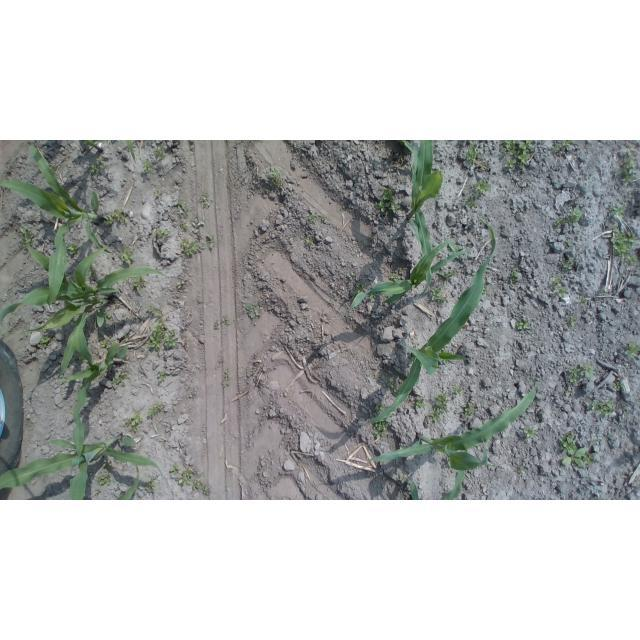Maize: (371, 221, 497, 421), (0, 229, 166, 377), (0, 145, 112, 308), (368, 379, 538, 469), (58, 312, 128, 468), (1, 434, 164, 500), (350, 243, 472, 310), (401, 141, 443, 296), (411, 468, 465, 500), (84, 140, 139, 162), (116, 464, 141, 500)
Weeds: (559, 433, 595, 471), (145, 320, 180, 357), (499, 140, 535, 168), (610, 225, 640, 257), (376, 187, 401, 214), (429, 393, 449, 423), (569, 362, 594, 385), (621, 147, 635, 185), (587, 401, 616, 416), (464, 140, 482, 164), (124, 412, 144, 432), (105, 209, 128, 226), (552, 275, 568, 297), (268, 166, 284, 187), (375, 403, 393, 421), (181, 240, 200, 257), (472, 180, 491, 197), (623, 340, 640, 359), (132, 275, 149, 293), (440, 269, 457, 286), (568, 208, 584, 226), (112, 370, 128, 388), (447, 240, 462, 259), (20, 228, 33, 249), (430, 288, 446, 305), (121, 247, 136, 265), (374, 421, 389, 439), (155, 229, 172, 244), (246, 302, 261, 318), (178, 469, 193, 485), (178, 199, 192, 216), (308, 212, 329, 223), (145, 304, 164, 316), (148, 402, 163, 416), (388, 379, 401, 395), (613, 203, 627, 217), (415, 396, 429, 410), (40, 333, 53, 348), (388, 268, 401, 282), (144, 478, 157, 492), (154, 145, 165, 160), (97, 475, 112, 486), (169, 464, 181, 477), (516, 320, 530, 331), (464, 403, 475, 417), (510, 268, 519, 284), (67, 243, 78, 256), (465, 196, 476, 209), (524, 427, 537, 438), (89, 164, 100, 176), (553, 218, 565, 229), (626, 255, 638, 266), (192, 478, 201, 492), (141, 161, 152, 172), (561, 259, 573, 269), (224, 372, 231, 389), (103, 460, 112, 473), (202, 192, 209, 208), (355, 283, 366, 293), (613, 381, 624, 391), (453, 385, 463, 396), (177, 280, 186, 291), (560, 141, 574, 148), (209, 236, 216, 249), (580, 295, 589, 305), (49, 164, 58, 173), (104, 312, 113, 321), (569, 316, 578, 325), (223, 315, 231, 325), (25, 329, 32, 340), (2, 324, 9, 335), (180, 220, 189, 228), (197, 219, 205, 228), (519, 464, 525, 476), (158, 372, 166, 381), (99, 340, 107, 348), (564, 388, 572, 396), (440, 357, 449, 364), (305, 236, 314, 243), (552, 146, 561, 153), (97, 155, 104, 163), (441, 346, 449, 353), (369, 293, 377, 300), (567, 238, 574, 246), (202, 485, 209, 493), (482, 284, 487, 295), (88, 268, 94, 277), (154, 190, 161, 197), (400, 475, 408, 481), (88, 296, 97, 301), (95, 489, 101, 496), (447, 456, 451, 466), (103, 163, 109, 169), (371, 236, 376, 242), (376, 374, 381, 380), (124, 335, 128, 342), (202, 244, 207, 249), (118, 141, 123, 146), (601, 292, 607, 296), (6, 339, 9, 342)
